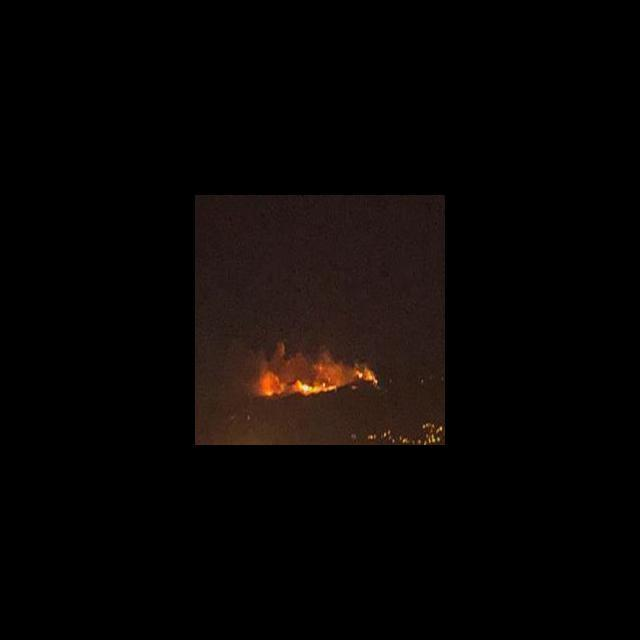Fire: (246, 333, 382, 403)
